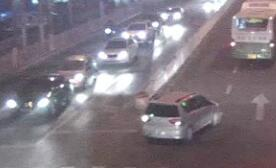bus: (228, 3, 274, 61)
car: (142, 87, 222, 144), (3, 72, 72, 120), (56, 54, 100, 87), (97, 38, 137, 65), (119, 21, 149, 42), (159, 6, 183, 22), (141, 13, 160, 31)
